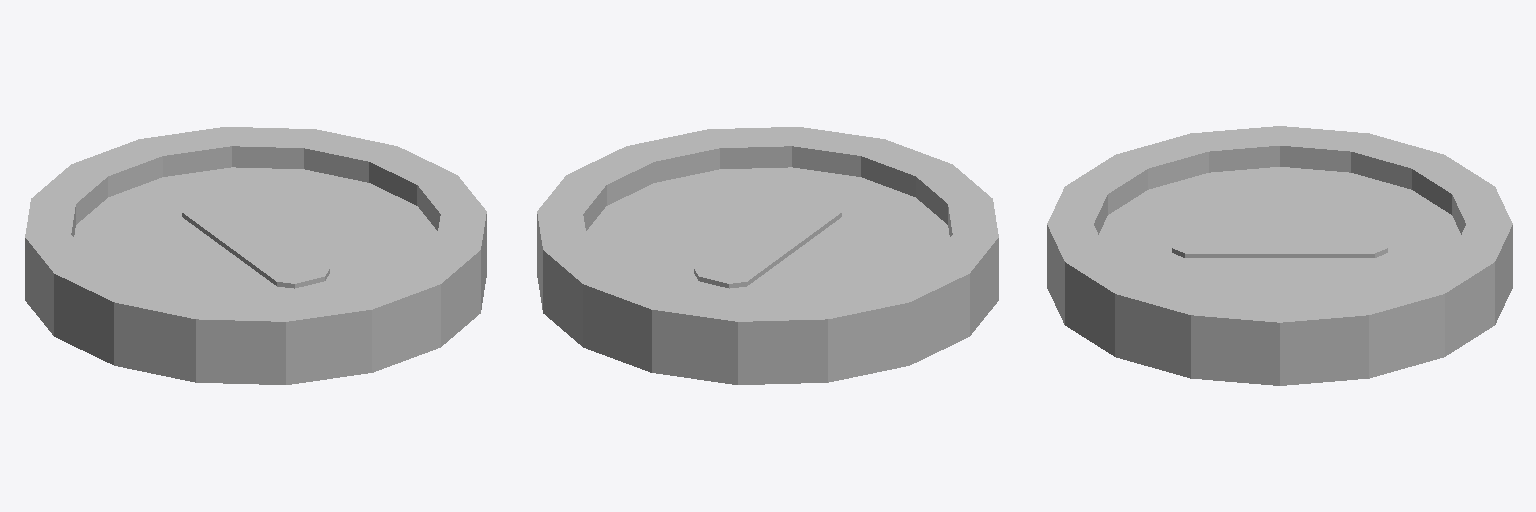
Rendered from coin-bar.obj.
The picture shows the model from 3 angles: view 1: azimuth 30°, elevation 25°; view 2: azimuth 150°, elevation 25°; view 3: azimuth 270°, elevation 25°; orthographic projection.
Visible parts, largest first — view 1: coin; view 2: coin; view 3: coin.
Part boxes in pixels (x1,y1,x2,y2): coin: (25,127,486,384); coin: (537,127,998,384); coin: (1047,126,1512,385).
Bounding box in the file's own units: 4 × 0.6 × 4.